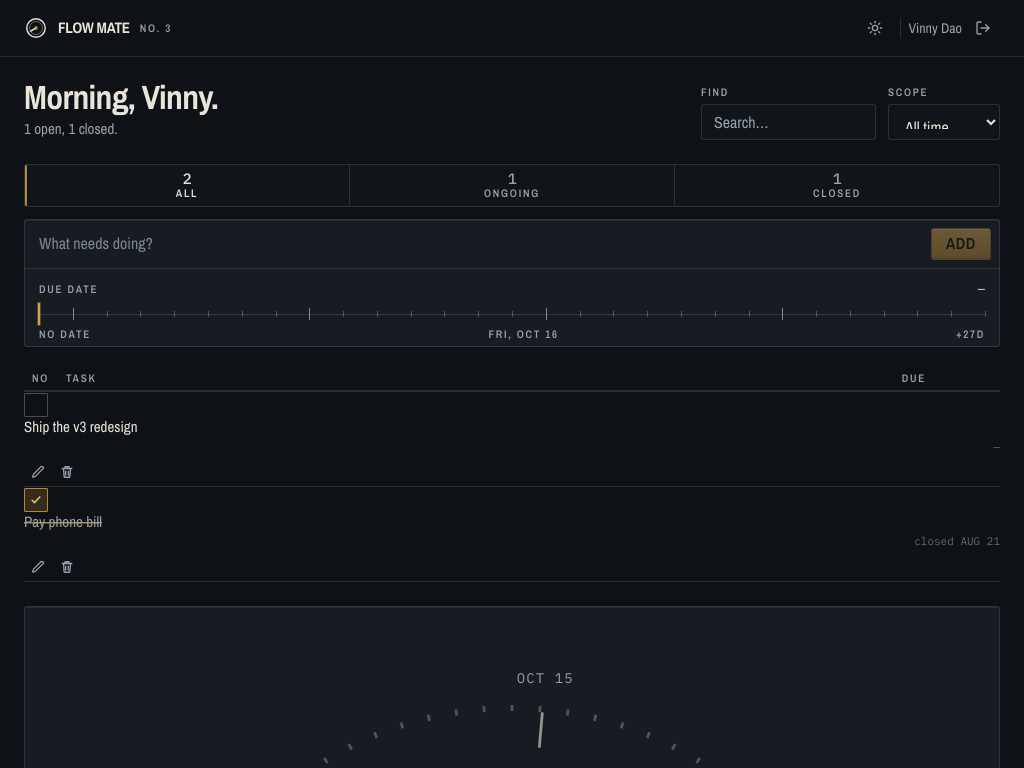
HomePage › deletes a task after the exit animation hands off
This screenshot has width=1024, height=768.
Check: the text "Ship the v3 redesign" is shown, box x1=24 y1=416 x2=138 y2=438
Click the button named "Delete \"Ship the v3 redesign\"" at (67, 472), box x1=53 y1=458 x2=81 y2=486
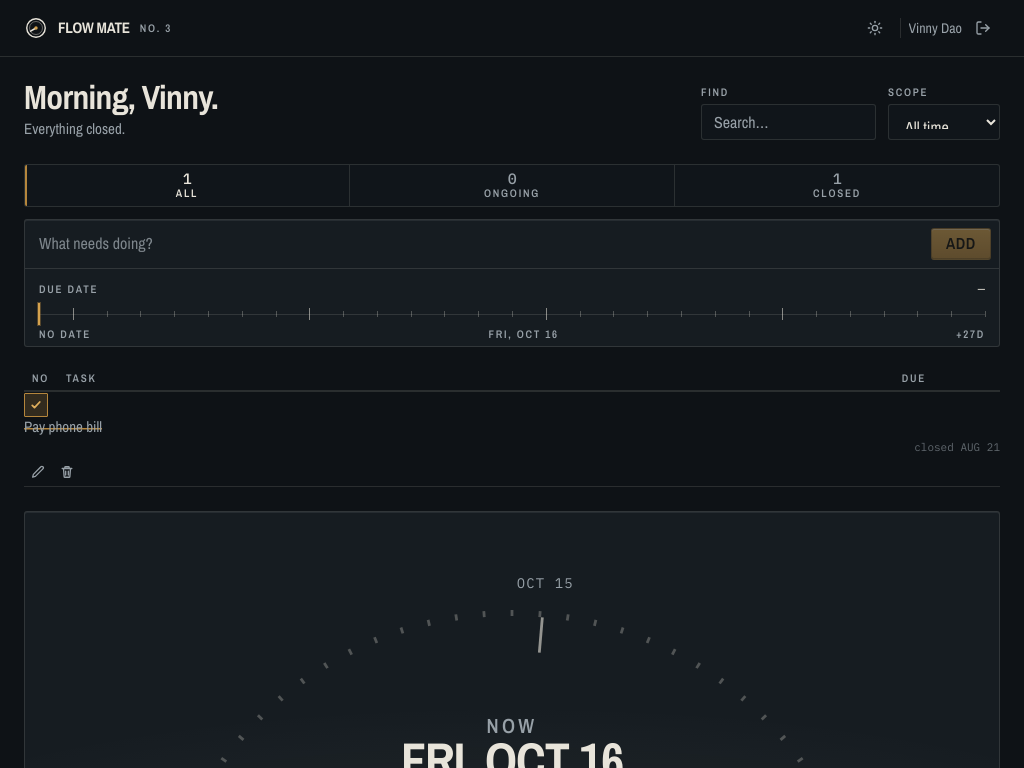
Check: the text "Pay phone bill" is shown, box x1=24 y1=416 x2=102 y2=438
Check: the button "Ship the v3 redesign" is gone
